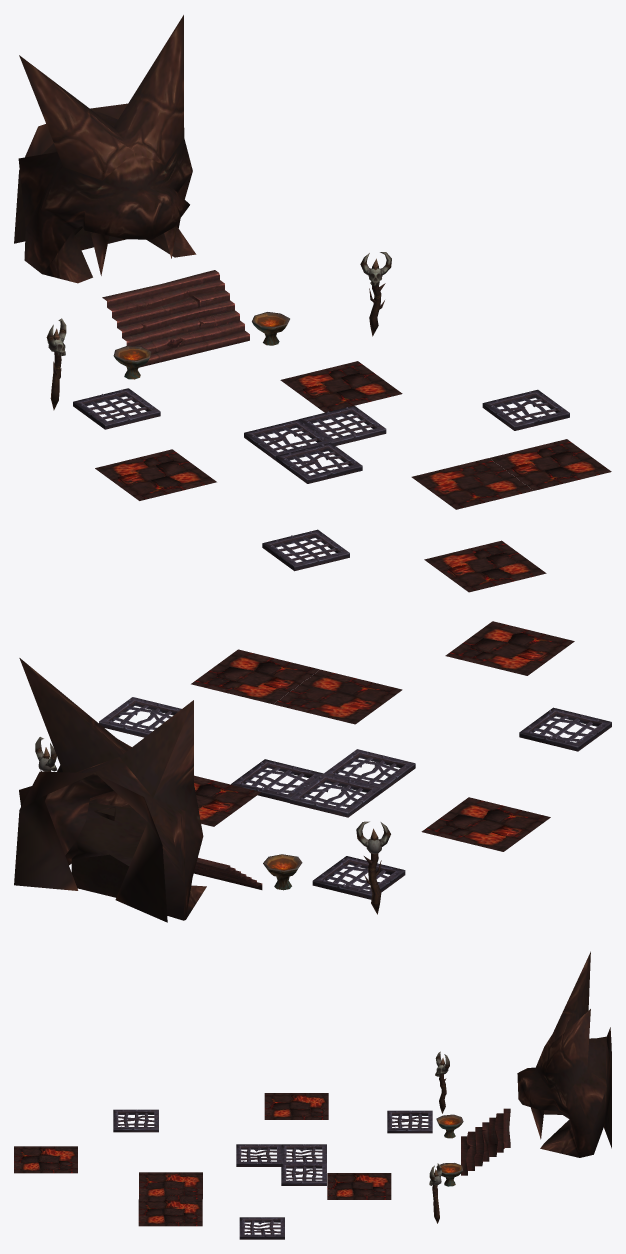
Rendered from changjing_sgwj.FBX.
3 views of the same model, one above another, from view 1: azimuth 30°, elevation 25°; view 2: azimuth 150°, elevation 25°; view 3: azimuth 270°, elevation 25° (orthographic). The views are drawn at different scales.
Visible parts, largest first — view 1: mesh_sgwj; view 2: mesh_sgwj; view 3: mesh_sgwj.
Part boxes in pixels (box(x1,y1,x2,y2)): mesh_sgwj: box(14, 15, 611, 592); mesh_sgwj: box(14, 621, 611, 922); mesh_sgwj: box(14, 951, 611, 1239).
Size of the model in its own units: 1573 by 959 by 2771.
1 material, 1 textured.
